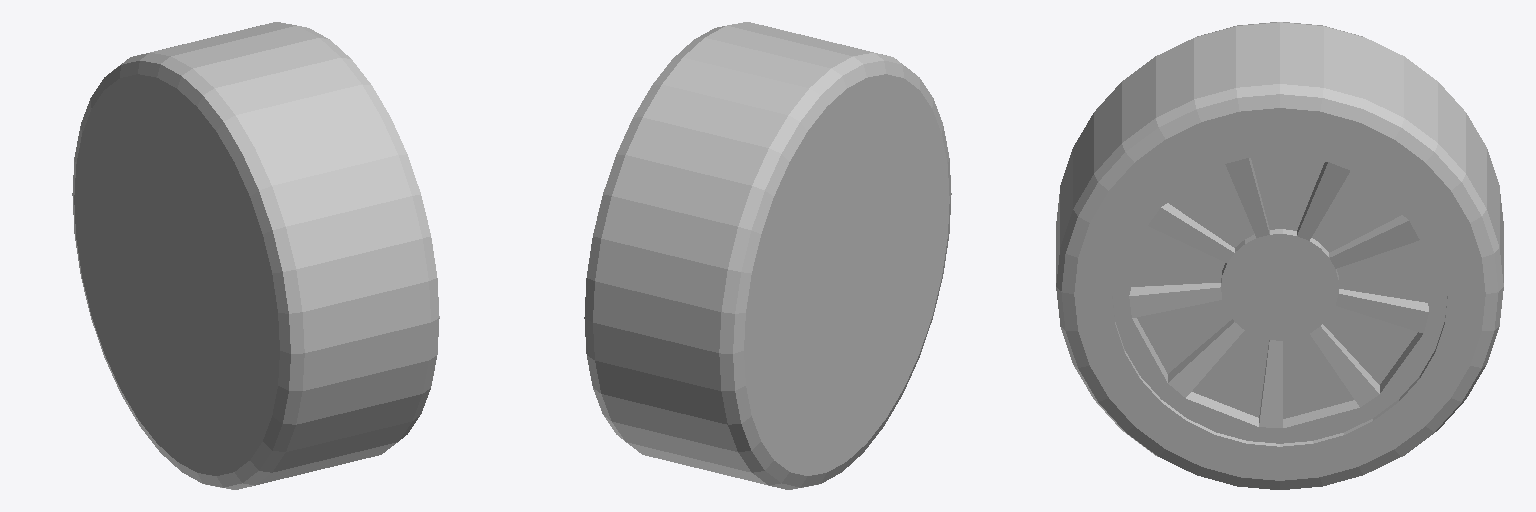
The model's file is rear_right_tire.obj.
3 views of the same model, side by side, from view 1: azimuth 30°, elevation 25°; view 2: azimuth 150°, elevation 25°; view 3: azimuth 270°, elevation 25° (orthographic).
Visible parts, largest first — view 1: s15-wheel.Bk.R; view 2: s15-wheel.Bk.R; view 3: s15-wheel.Bk.R.
Boxes of the visible parts, x1,y1,x2,y2 form: s15-wheel.Bk.R: [72, 22, 439, 489]; s15-wheel.Bk.R: [584, 22, 951, 489]; s15-wheel.Bk.R: [1056, 22, 1503, 489].
Bounding box in the file's own units: 0.269 × 0.6616 × 0.6616.